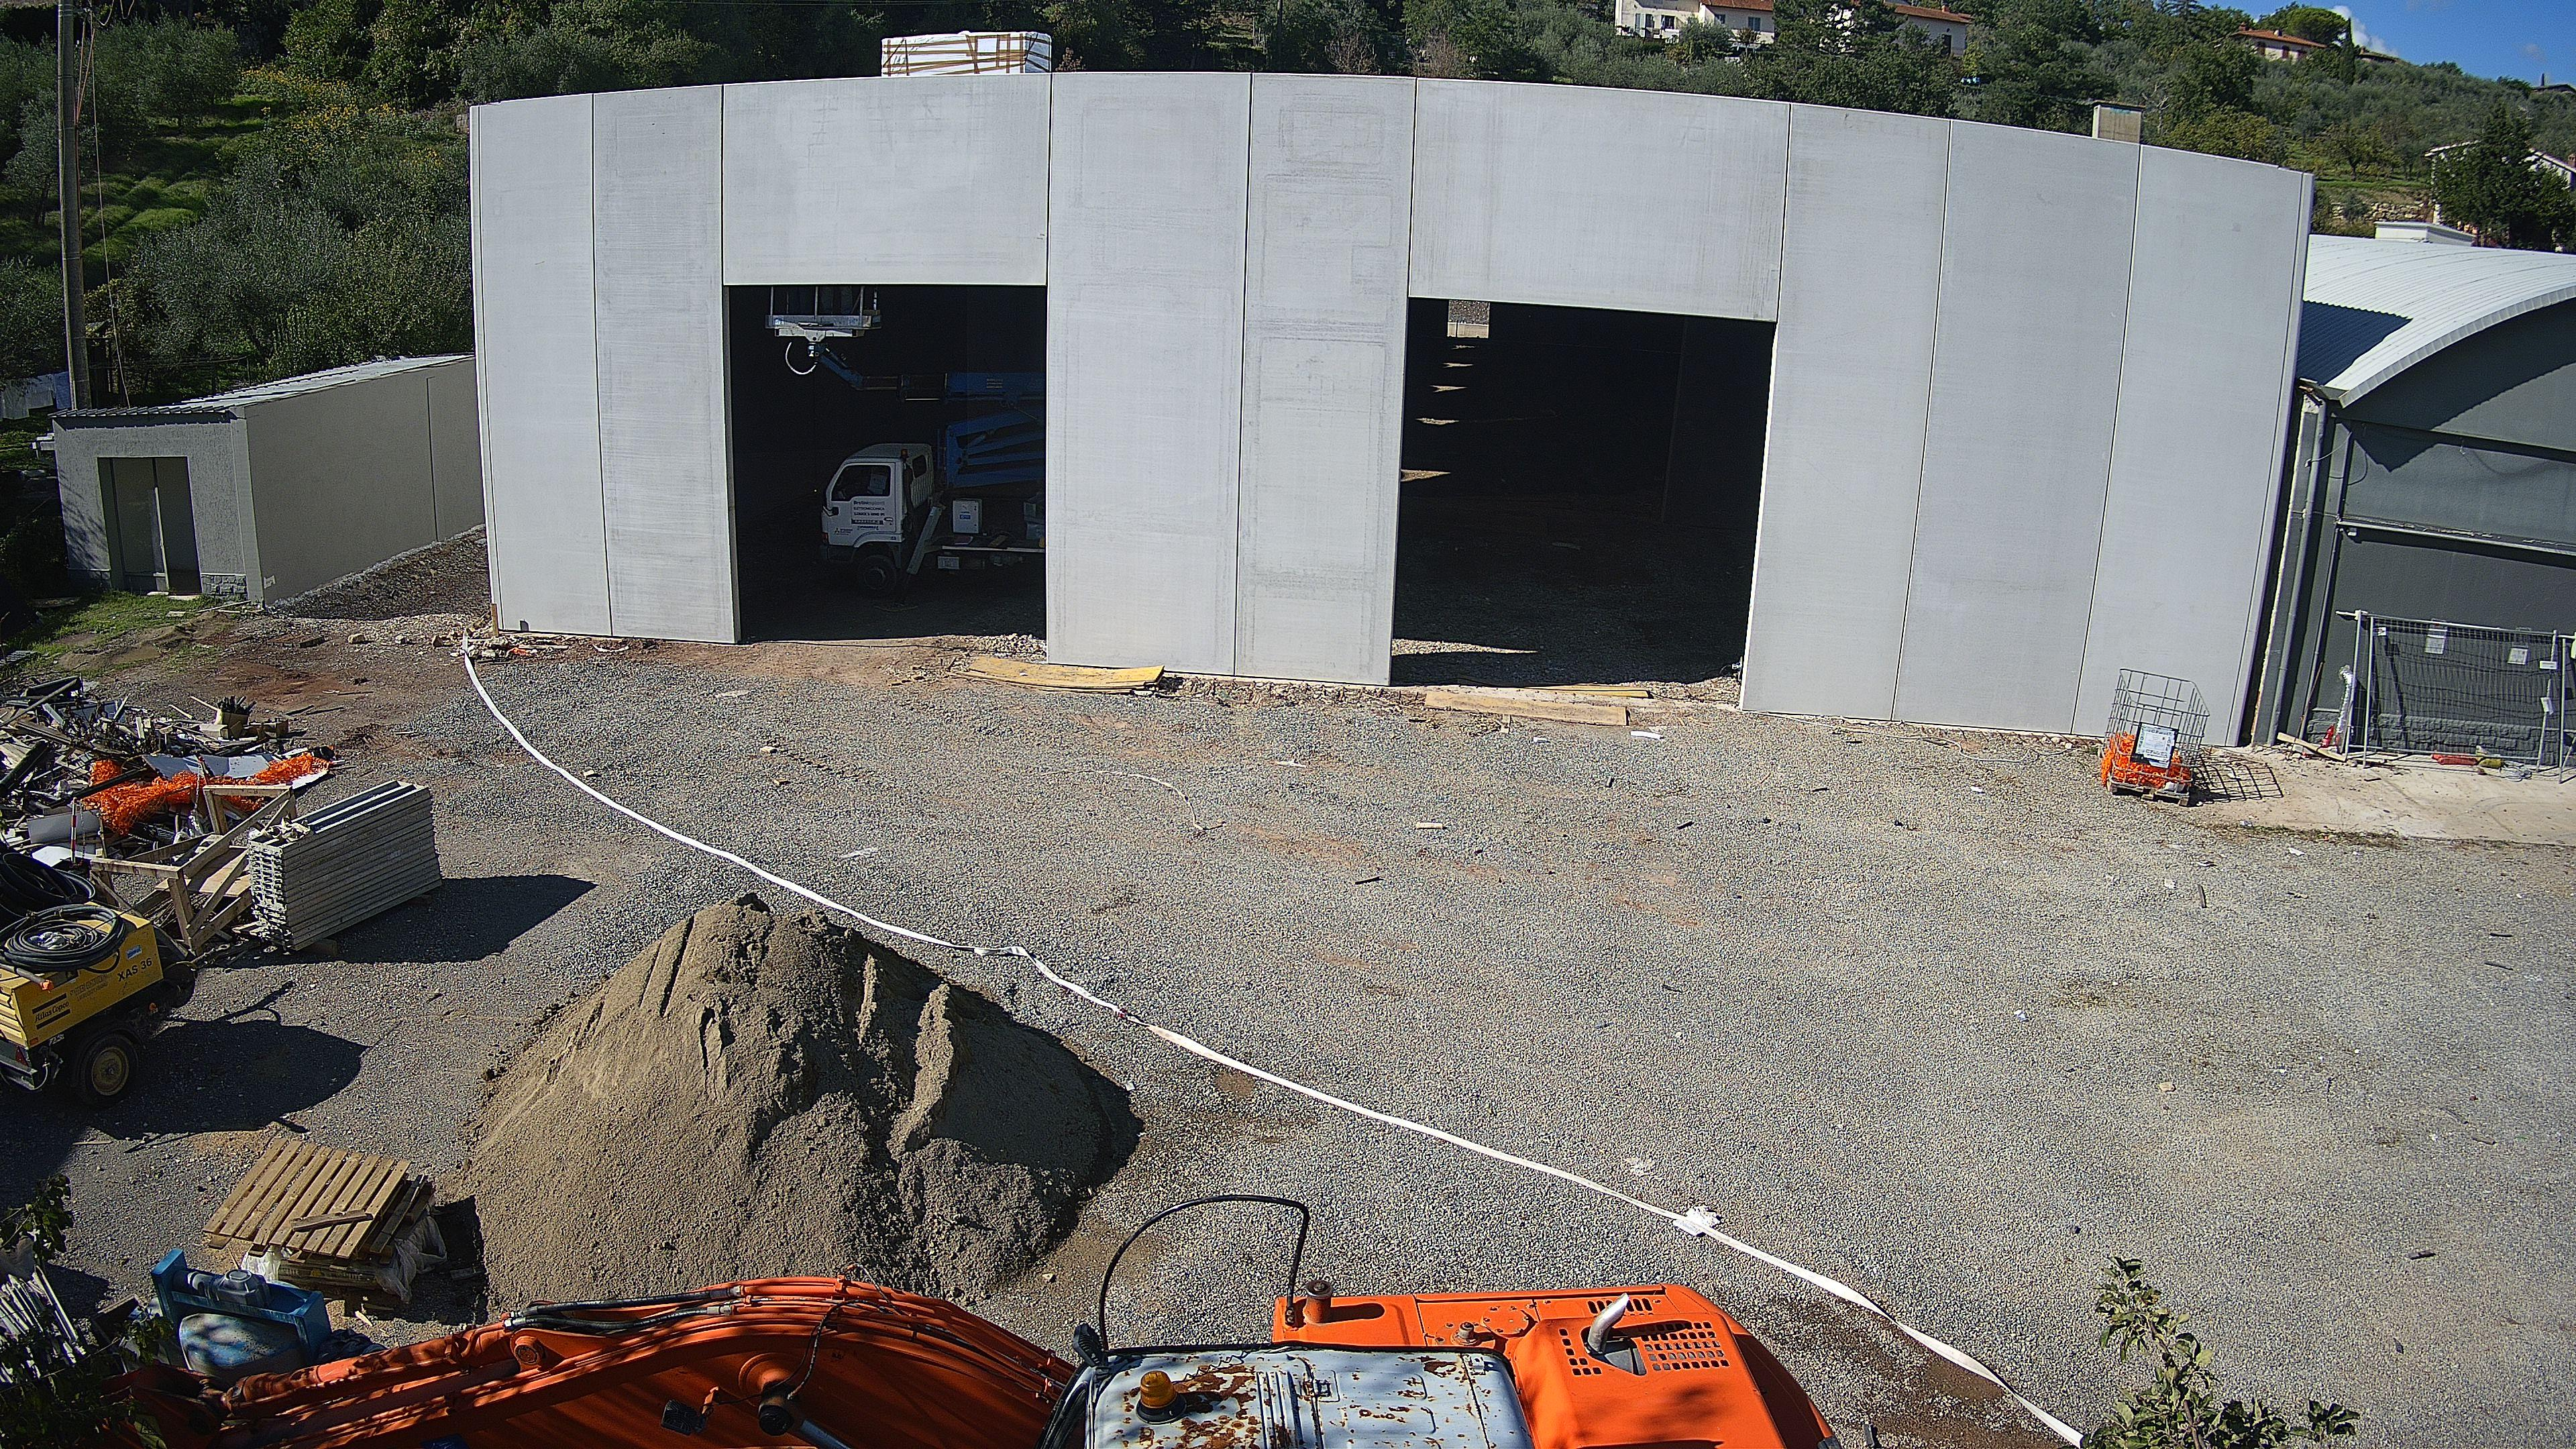Aerial platforms: (764, 285, 1047, 600)
excavator: (0, 1191, 1835, 1449)
